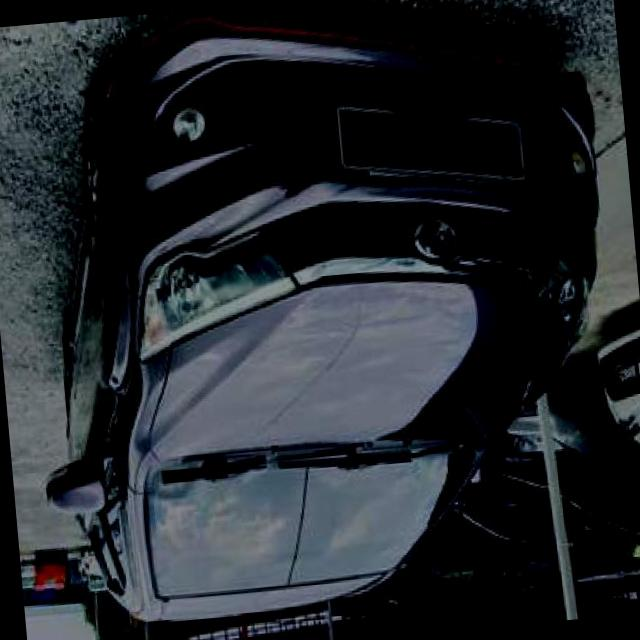PeroduaBezza: (6, 0, 637, 635)
